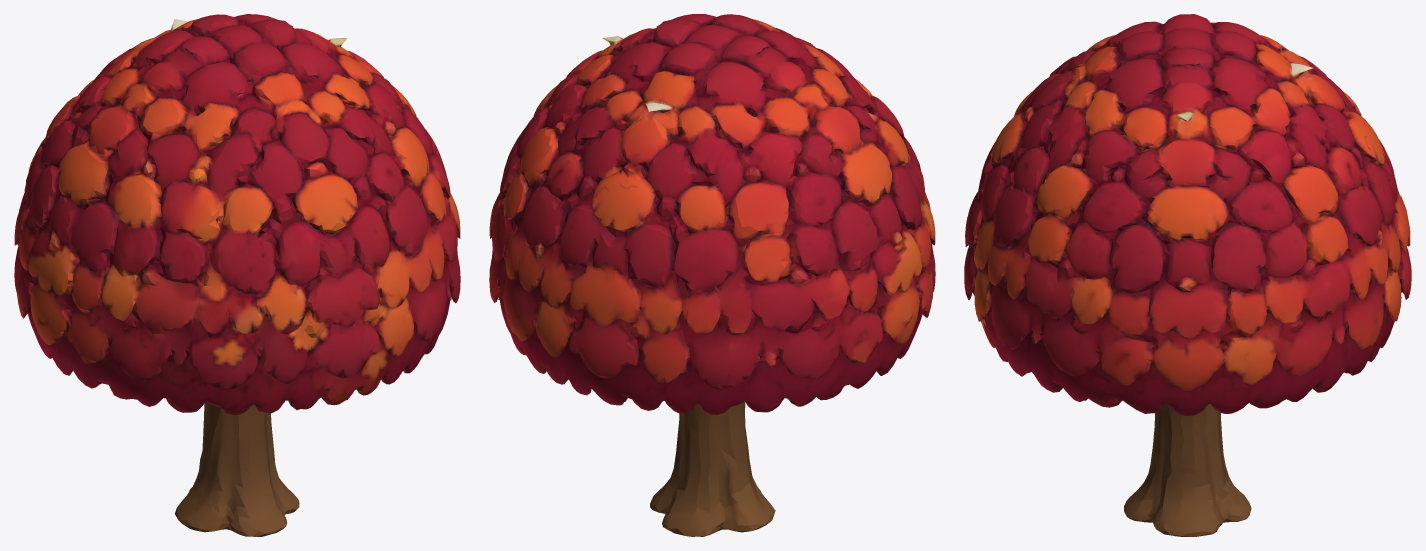
Rendered from tree_autumn.glb.
3 views of the same model, side by side, from view 1: azimuth 30°, elevation 25°; view 2: azimuth 150°, elevation 25°; view 3: azimuth 270°, elevation 25° (orthographic).
Visible parts, largest first — view 1: tree_autumn; view 2: tree_autumn; view 3: tree_autumn.
Boxes of the visible parts, x1,y1,x2,y2 form: tree_autumn: (14, 14, 460, 536); tree_autumn: (489, 14, 935, 536); tree_autumn: (964, 14, 1411, 536).
Size of the model in its own units: 0.8464 by 1 by 0.8452.
1 material, 1 textured.
